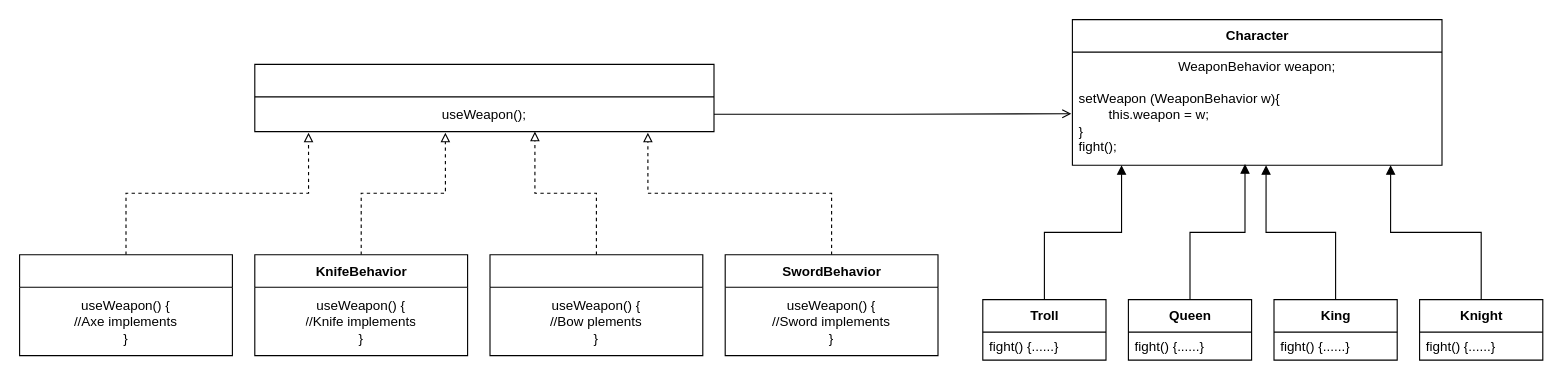
Image size: 1562x380. Some labels were removed from this diagram. The box of each missing label's shape, as (x1, y1, x2, y2) in pixels:
<<interface>> WeaponBehavior: (254, 63, 714, 132)
AxeBehavior: (18, 254, 232, 356)
BowAndArrowBehavior: (489, 254, 703, 356)
